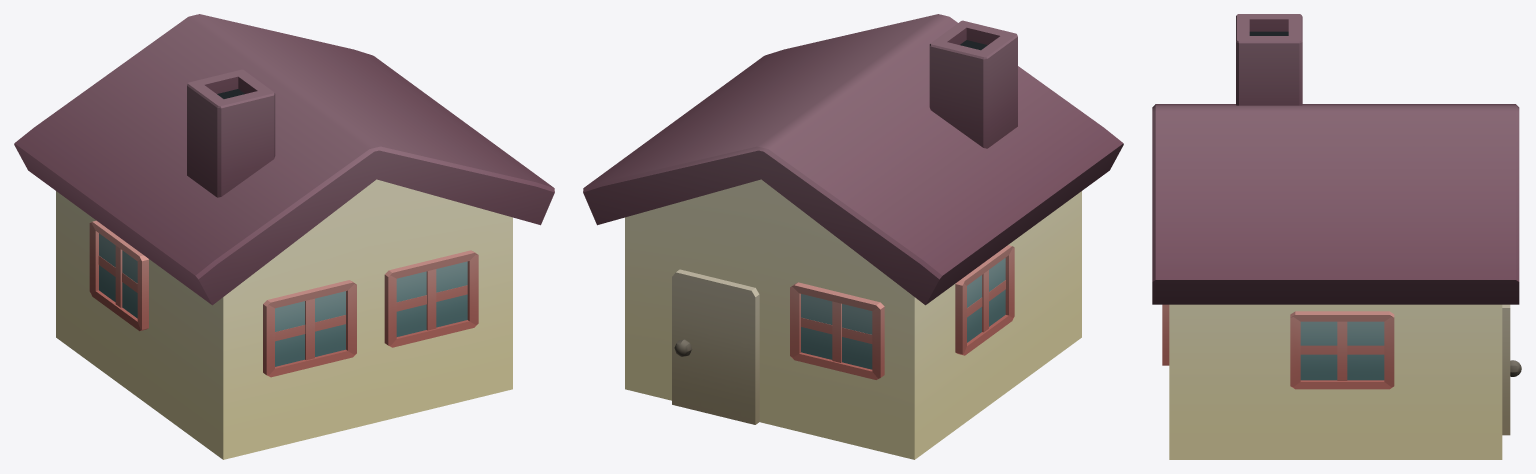
The model's file is housePurple.fbx.
3 views of the same model, side by side, from view 1: azimuth 30°, elevation 25°; view 2: azimuth 150°, elevation 25°; view 3: azimuth 270°, elevation 25° (orthographic).
Visible parts, largest first — view 1: HousePurple; view 2: HousePurple; view 3: HousePurple.
Part boxes in pixels (x1,y1,x2,y2): HousePurple: [14, 14, 554, 459]; HousePurple: [583, 14, 1123, 459]; HousePurple: [1152, 14, 1521, 459].
Size of the model in its own units: 6.2 by 5.3 by 5.55.
